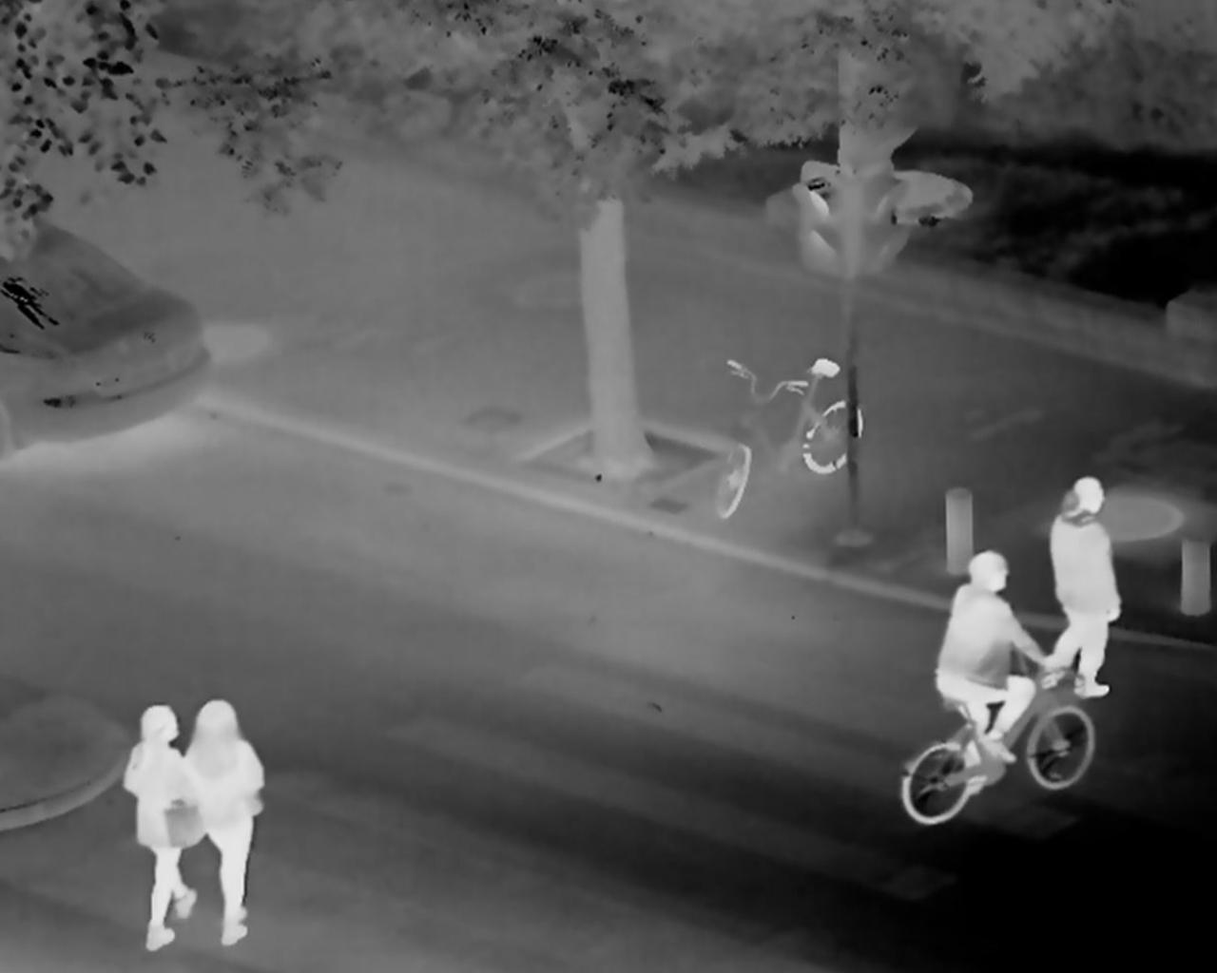person: (933, 551, 1063, 800), (186, 699, 265, 948), (124, 704, 199, 955), (1044, 475, 1116, 705)
